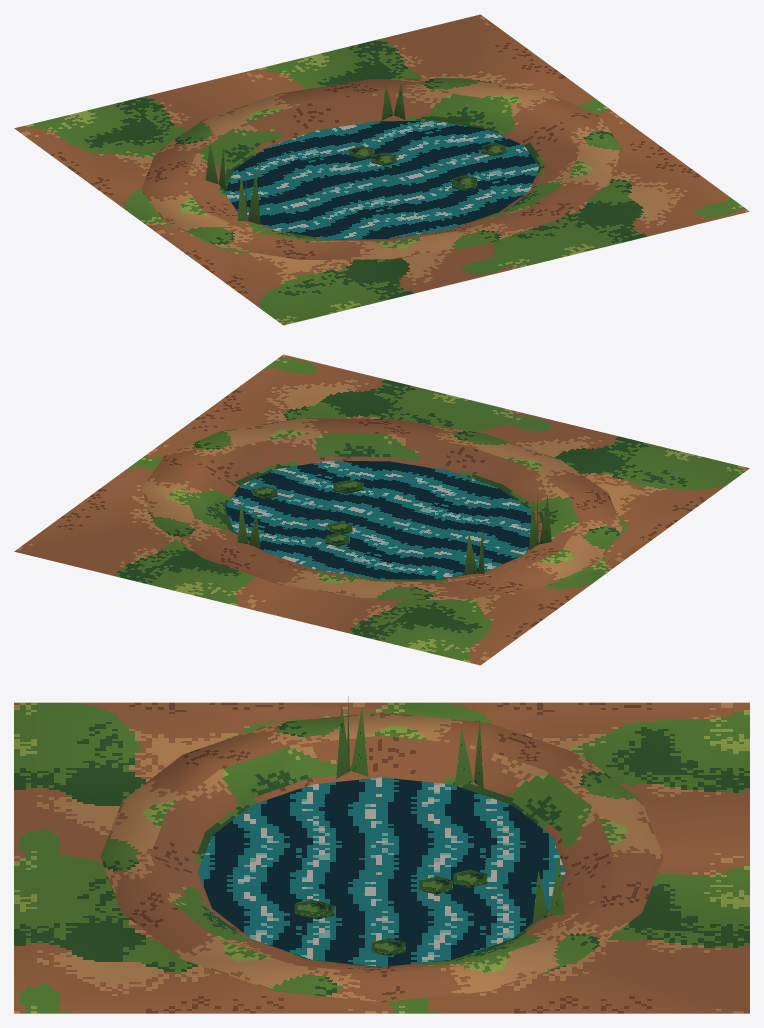
Rendered from wild.oasis__jungle.glb.
3 renders of one model, top to bottom at view 1: azimuth 30°, elevation 25°; view 2: azimuth 150°, elevation 25°; view 3: azimuth 270°, elevation 25°, orthographic. The views are drawn at different scales.
Visible parts, largest first — view 1: kit_shell_skirt, kit_bank, kit_shell_water, kit_shell_reeds, kit_pads; view 2: kit_shell_skirt, kit_bank, kit_shell_water, kit_shell_reeds, kit_pads; view 3: kit_shell_skirt, kit_bank, kit_shell_water, kit_shell_reeds, kit_pads.
Boxes of the visible parts, x1,y1,x2,y2 form: kit_shell_skirt: (14, 14, 749, 325); kit_bank: (141, 78, 622, 259); kit_shell_water: (225, 120, 538, 239); kit_shell_reeds: (205, 81, 405, 224); kit_pads: (349, 143, 506, 190); kit_shell_skirt: (14, 354, 749, 665); kit_bank: (141, 418, 622, 599); kit_shell_water: (225, 460, 538, 579); kit_shell_reeds: (237, 493, 551, 575); kit_pads: (252, 480, 363, 546); kit_shell_skirt: (14, 702, 749, 1013); kit_bank: (100, 712, 663, 1002); kit_shell_water: (198, 777, 565, 966); kit_shell_reeds: (336, 696, 564, 923); kit_pads: (294, 869, 487, 956).
Bounding box in the file's own units: 12 × 1.46 × 12.
4 materials, 4 textured.
